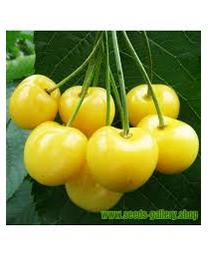cherry: (87, 126, 159, 192), (23, 120, 90, 186), (135, 114, 198, 176), (64, 154, 124, 211), (59, 84, 116, 138), (9, 75, 62, 129), (124, 82, 181, 130)
